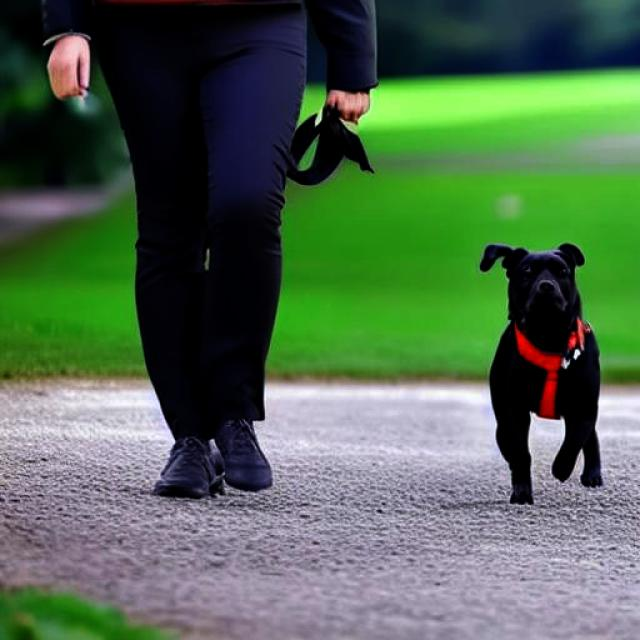Unleashed_Dog: (206, 69, 604, 505)
